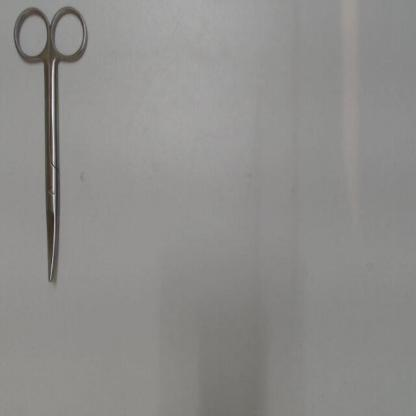Curved Mayo Scissors: (10, 3, 93, 292)
